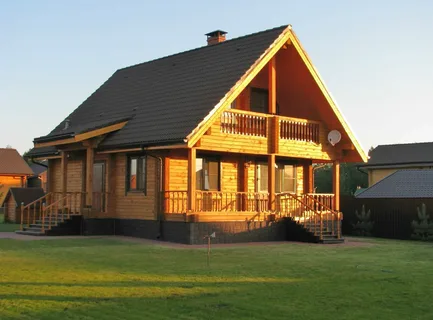private_hause: (30, 21, 353, 246)
